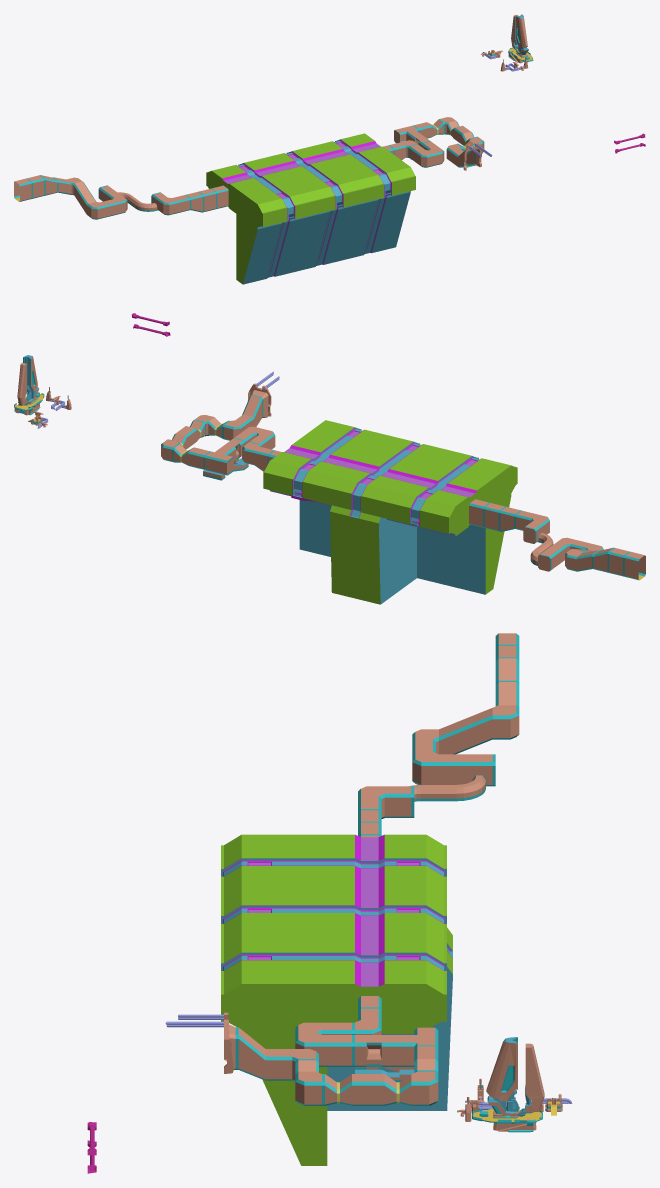
The model's file is level_collision_metal.fbx.
The picture shows the model from 3 angles, top to bottom: view 1: azimuth 30°, elevation 25°; view 2: azimuth 150°, elevation 25°; view 3: azimuth 270°, elevation 25°; orthographic projection. The views are drawn at different scales.
Parts seen in each view (by area): view 1: level_collision_metal; view 2: level_collision_metal; view 3: level_collision_metal.
Part boxes in pixels (x1,y1,x2,y2): level_collision_metal: [14, 14, 645, 284]; level_collision_metal: [14, 313, 645, 604]; level_collision_metal: [87, 633, 572, 1173].
Bounding box in the file's own units: 4067521 × 1107213 × 1627081.
